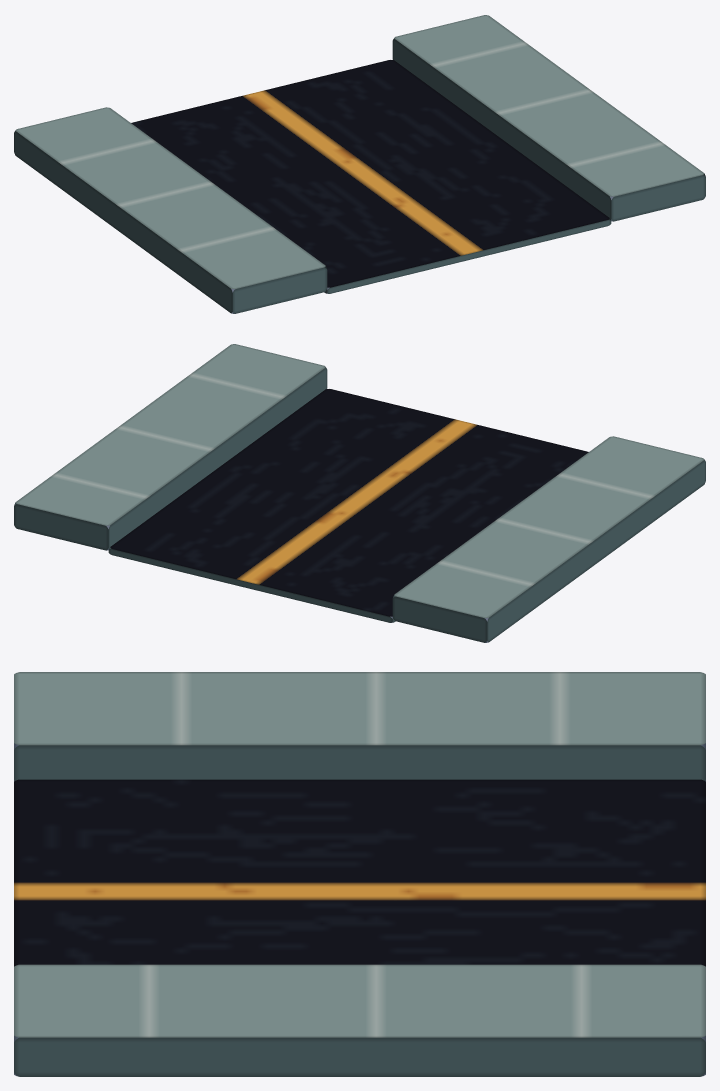
Rendered from Estrada.obj.
3 renders of one model, top to bottom at view 1: azimuth 30°, elevation 25°; view 2: azimuth 150°, elevation 25°; view 3: azimuth 270°, elevation 25°, orthographic. The views are drawn at different scales.
Visible parts, largest first — view 1: cuboid; view 2: cuboid; view 3: cuboid.
Part boxes in pixels (x1,y1,x2,y2): cuboid: [14, 15, 705, 313]; cuboid: [14, 344, 705, 642]; cuboid: [14, 672, 705, 1076].
Size of the model in its own units: 2.5 by 0.1406 by 2.
